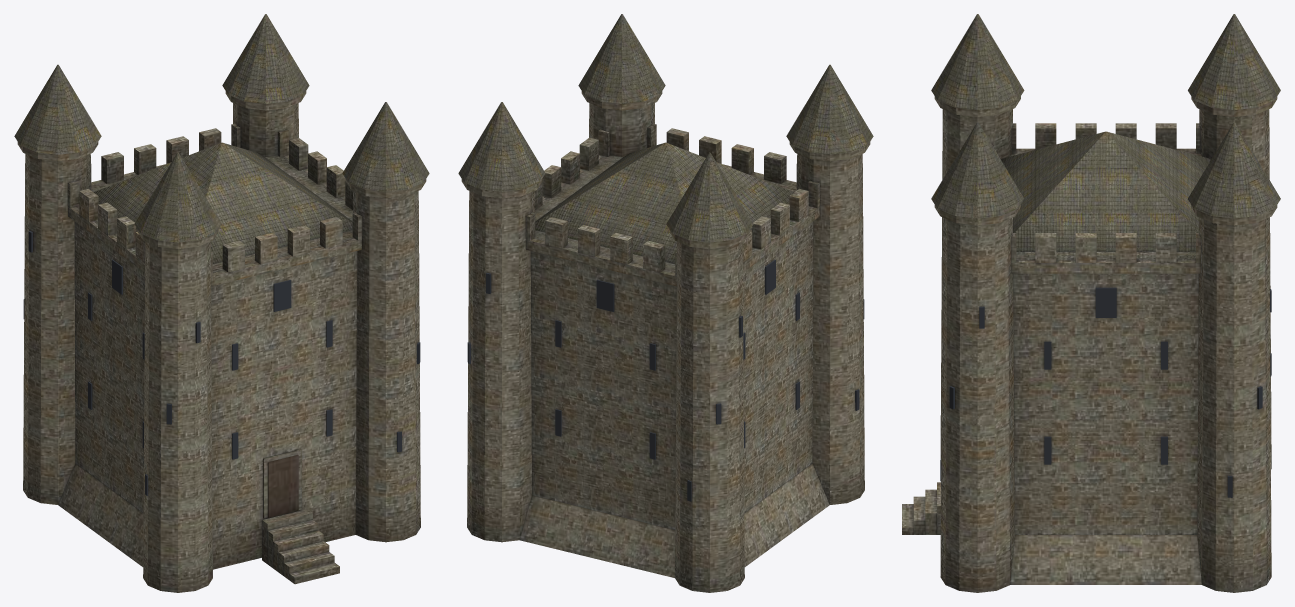
The model's file is castle_keep.glb.
The picture shows the model from 3 angles, left to right: view 1: azimuth 30°, elevation 25°; view 2: azimuth 150°, elevation 25°; view 3: azimuth 270°, elevation 25°; orthographic projection. The views are drawn at different scales.
Parts seen in each view (by area): view 1: castle_keep; view 2: castle_keep; view 3: castle_keep.
Boxes of the visible parts, x1,y1,x2,y2 form: castle_keep: [14, 14, 429, 592]; castle_keep: [458, 14, 873, 592]; castle_keep: [902, 14, 1280, 592].
Size of the model in its own units: 15 by 21.5 by 16.25.
2 materials, 1 textured.
